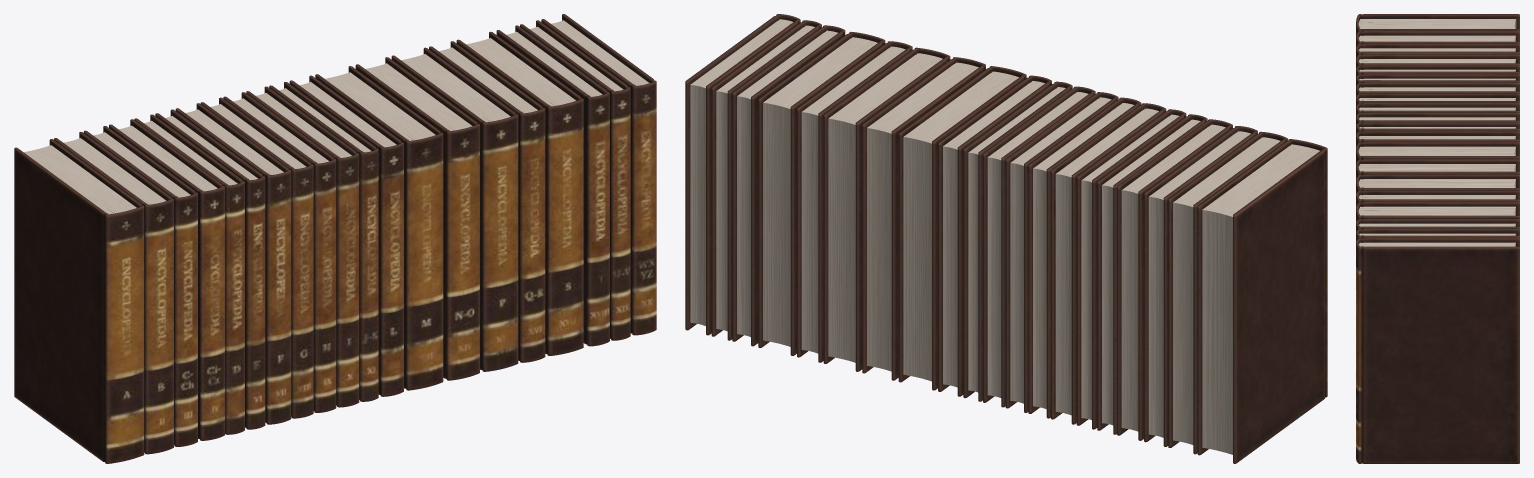
File: book_encyclopedia_set_01.glb
3 renders of one model, left to right at view 1: azimuth 30°, elevation 25°; view 2: azimuth 150°, elevation 25°; view 3: azimuth 270°, elevation 25°, orthographic. The views are drawn at different scales.
Visible parts, largest first — view 1: book_encyclopedia_set_01_book01, book_encyclopedia_set_01_book13, book_encyclopedia_set_01_book15, book_encyclopedia_set_01_book17, book_encyclopedia_set_01_book14, book_encyclopedia_set_01_book02, book_encyclopedia_set_01_book16, book_encyclopedia_set_01_book04, book_encyclopedia_set_01_book18, book_encyclopedia_set_01_book20, book_encyclopedia_set_01_book07, book_encyclopedia_set_01_book12 (+8 smaller); view 2: book_encyclopedia_set_01_book01, book_encyclopedia_set_01_book13, book_encyclopedia_set_01_book15, book_encyclopedia_set_01_book17, book_encyclopedia_set_01_book14, book_encyclopedia_set_01_book02, book_encyclopedia_set_01_book04, book_encyclopedia_set_01_book16, book_encyclopedia_set_01_book20, book_encyclopedia_set_01_book18, book_encyclopedia_set_01_book07, book_encyclopedia_set_01_book12 (+8 smaller); view 3: book_encyclopedia_set_01_book20, book_encyclopedia_set_01_book13, book_encyclopedia_set_01_book01, book_encyclopedia_set_01_book17, book_encyclopedia_set_01_book15, book_encyclopedia_set_01_book14, book_encyclopedia_set_01_book02, book_encyclopedia_set_01_book16, book_encyclopedia_set_01_book03, book_encyclopedia_set_01_book12, book_encyclopedia_set_01_book07, book_encyclopedia_set_01_book04 (+8 smaller).
Boxes of the visible parts, left/top/right/bottom form: book_encyclopedia_set_01_book01: left=14, top=139, right=144, bottom=463; book_encyclopedia_set_01_book13: left=315, top=66, right=443, bottom=390; book_encyclopedia_set_01_book15: left=391, top=47, right=518, bottom=371; book_encyclopedia_set_01_book17: left=456, top=31, right=583, bottom=355; book_encyclopedia_set_01_book14: left=355, top=57, right=479, bottom=380; book_encyclopedia_set_01_book02: left=54, top=132, right=173, bottom=454; book_encyclopedia_set_01_book16: left=429, top=41, right=545, bottom=362; book_encyclopedia_set_01_book04: left=109, top=119, right=224, bottom=440; book_encyclopedia_set_01_book18: left=496, top=25, right=609, bottom=346; book_encyclopedia_set_01_book20: left=541, top=14, right=656, bottom=335; book_encyclopedia_set_01_book07: left=175, top=103, right=291, bottom=424; book_encyclopedia_set_01_book12: left=289, top=75, right=403, bottom=396; book_encyclopedia_set_01_book01: left=1197, top=139, right=1327, bottom=463; book_encyclopedia_set_01_book13: left=898, top=66, right=1026, bottom=390; book_encyclopedia_set_01_book15: left=823, top=47, right=950, bottom=371; book_encyclopedia_set_01_book17: left=758, top=32, right=885, bottom=355; book_encyclopedia_set_01_book14: left=862, top=57, right=985, bottom=380; book_encyclopedia_set_01_book02: left=1168, top=131, right=1287, bottom=454; book_encyclopedia_set_01_book04: left=1117, top=119, right=1232, bottom=440; book_encyclopedia_set_01_book16: left=797, top=41, right=912, bottom=362; book_encyclopedia_set_01_book20: left=685, top=14, right=800, bottom=335; book_encyclopedia_set_01_book18: left=732, top=25, right=845, bottom=346; book_encyclopedia_set_01_book07: left=1051, top=103, right=1166, bottom=424; book_encyclopedia_set_01_book12: left=938, top=75, right=1051, bottom=396; book_encyclopedia_set_01_book20: left=1356, top=238, right=1519, bottom=463; book_encyclopedia_set_01_book13: left=1356, top=142, right=1519, bottom=164; book_encyclopedia_set_01_book01: left=1356, top=14, right=1519, bottom=35; book_encyclopedia_set_01_book17: left=1356, top=202, right=1519, bottom=222; book_encyclopedia_set_01_book15: left=1356, top=174, right=1519, bottom=194; book_encyclopedia_set_01_book14: left=1356, top=159, right=1519, bottom=180; book_encyclopedia_set_01_book02: left=1356, top=30, right=1519, bottom=47; book_encyclopedia_set_01_book16: left=1356, top=190, right=1519, bottom=208; book_encyclopedia_set_01_book03: left=1356, top=43, right=1519, bottom=58; book_encyclopedia_set_01_book12: left=1356, top=131, right=1519, bottom=148; book_encyclopedia_set_01_book07: left=1356, top=82, right=1519, bottom=96; book_encyclopedia_set_01_book04: left=1356, top=54, right=1519, bottom=68.
Size of the model in its own units: 0.5513 by 0.2374 by 0.1631.
2 materials, 2 textured.
